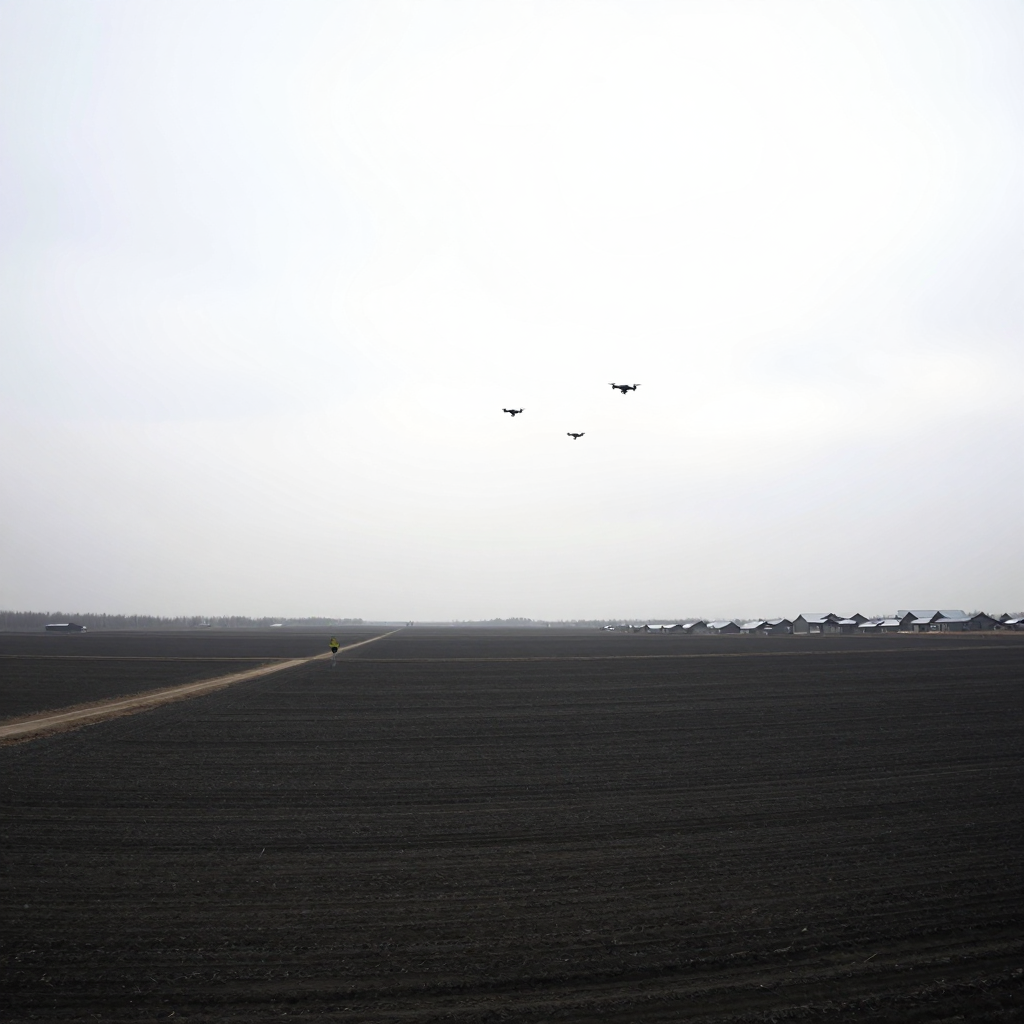drone: (607, 383, 642, 394), (502, 408, 526, 417), (567, 432, 585, 440), (502, 408, 512, 417)
